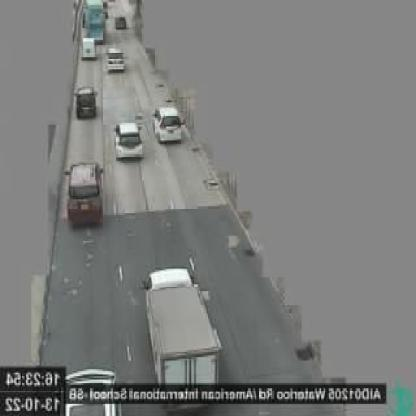Bus: (85, 0, 107, 45)
Car: (66, 161, 105, 229), (114, 122, 146, 162), (152, 105, 184, 145), (75, 86, 97, 121), (106, 48, 125, 73), (82, 36, 96, 62)
Truck: (141, 267, 228, 387)
